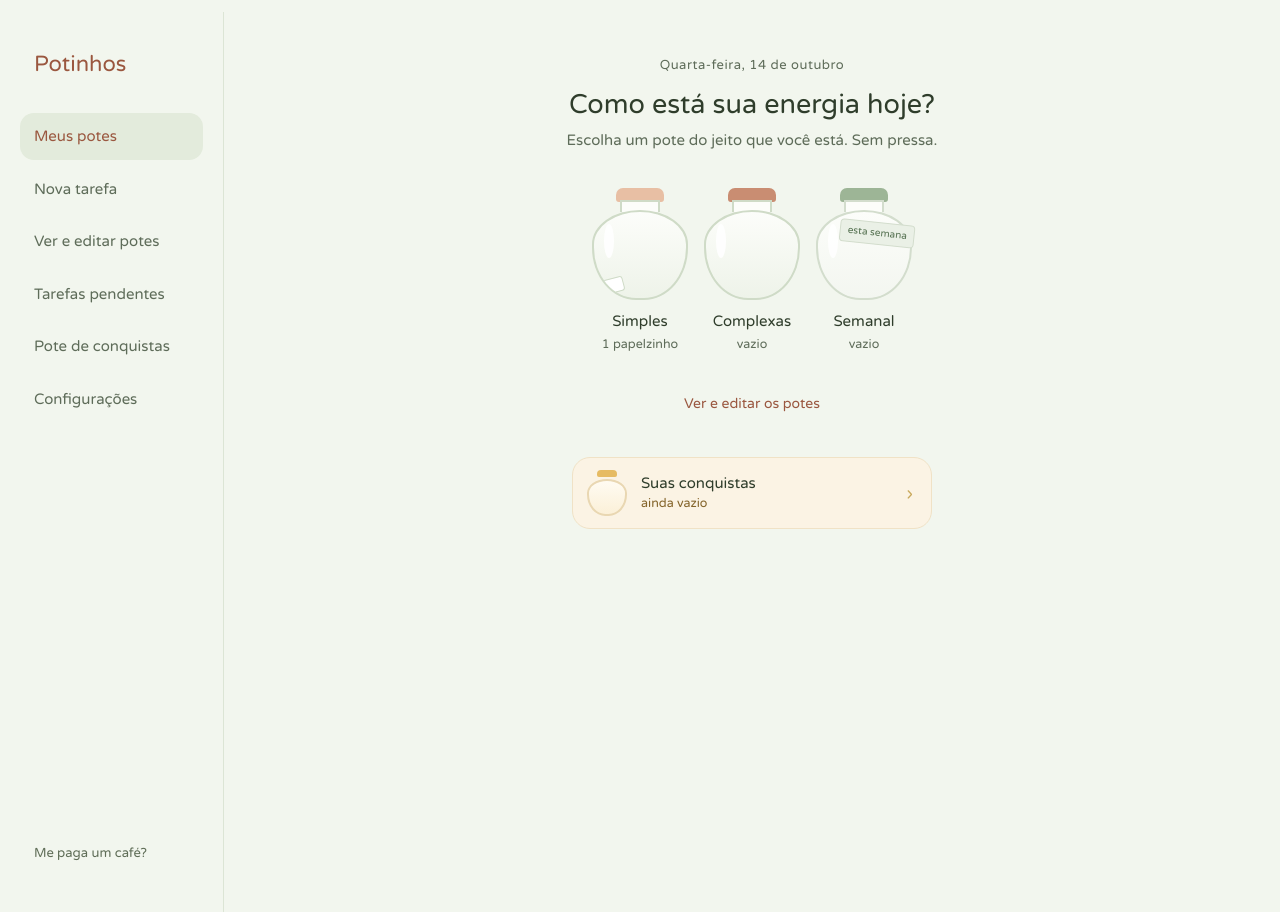
Return › goes home right away when the animation is skipped
Expected: the heading "Como está sua energia hoje?" is shown, [569, 88, 935, 120]
Click the button with aria-label "Pote ".
click(640, 271)  # box [592, 188, 688, 355]
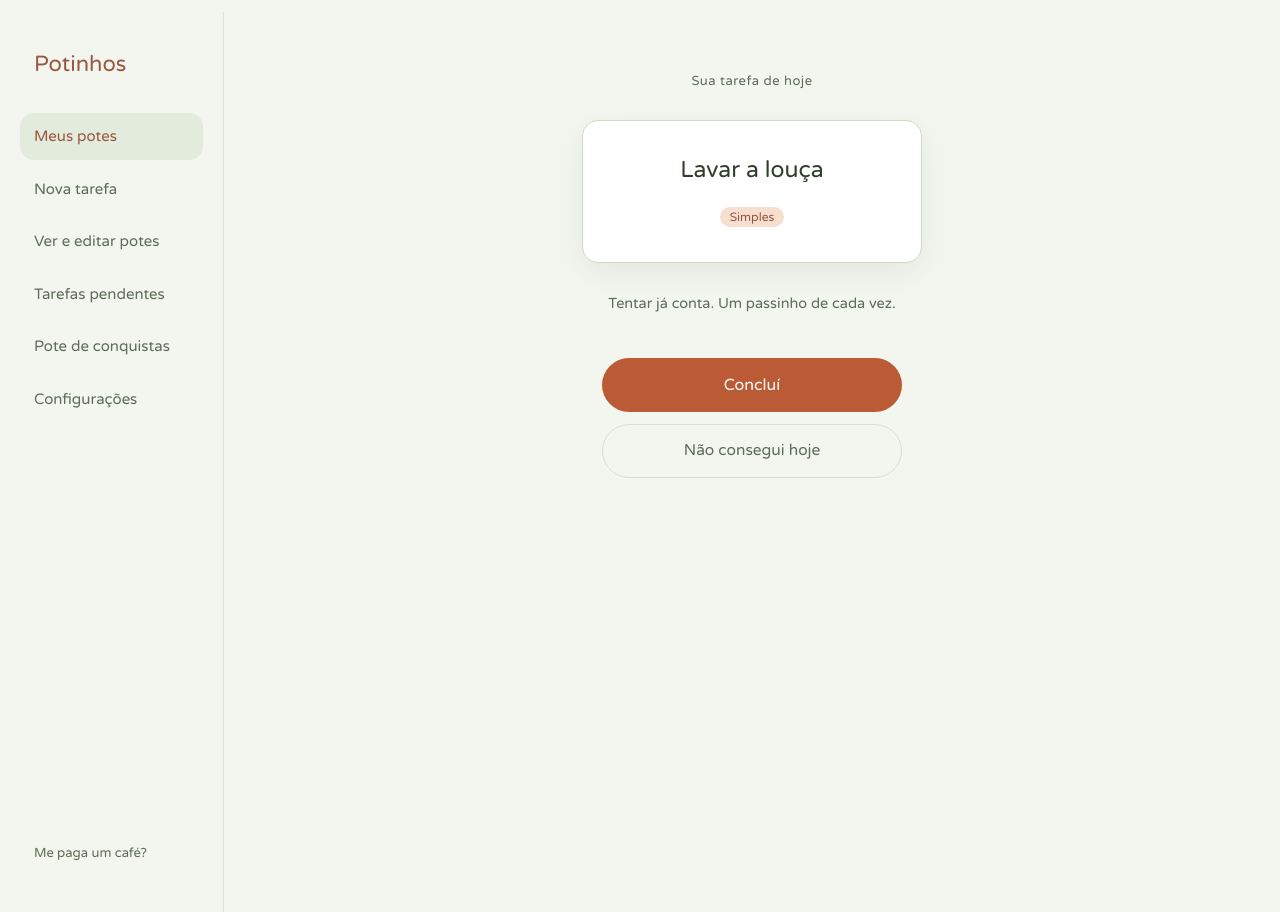
Expected: the heading "Sua tarefa de hoje" is shown, [691, 73, 812, 89]
Click the button "Não consegui hoje".
click(752, 451)  # box [602, 424, 902, 478]
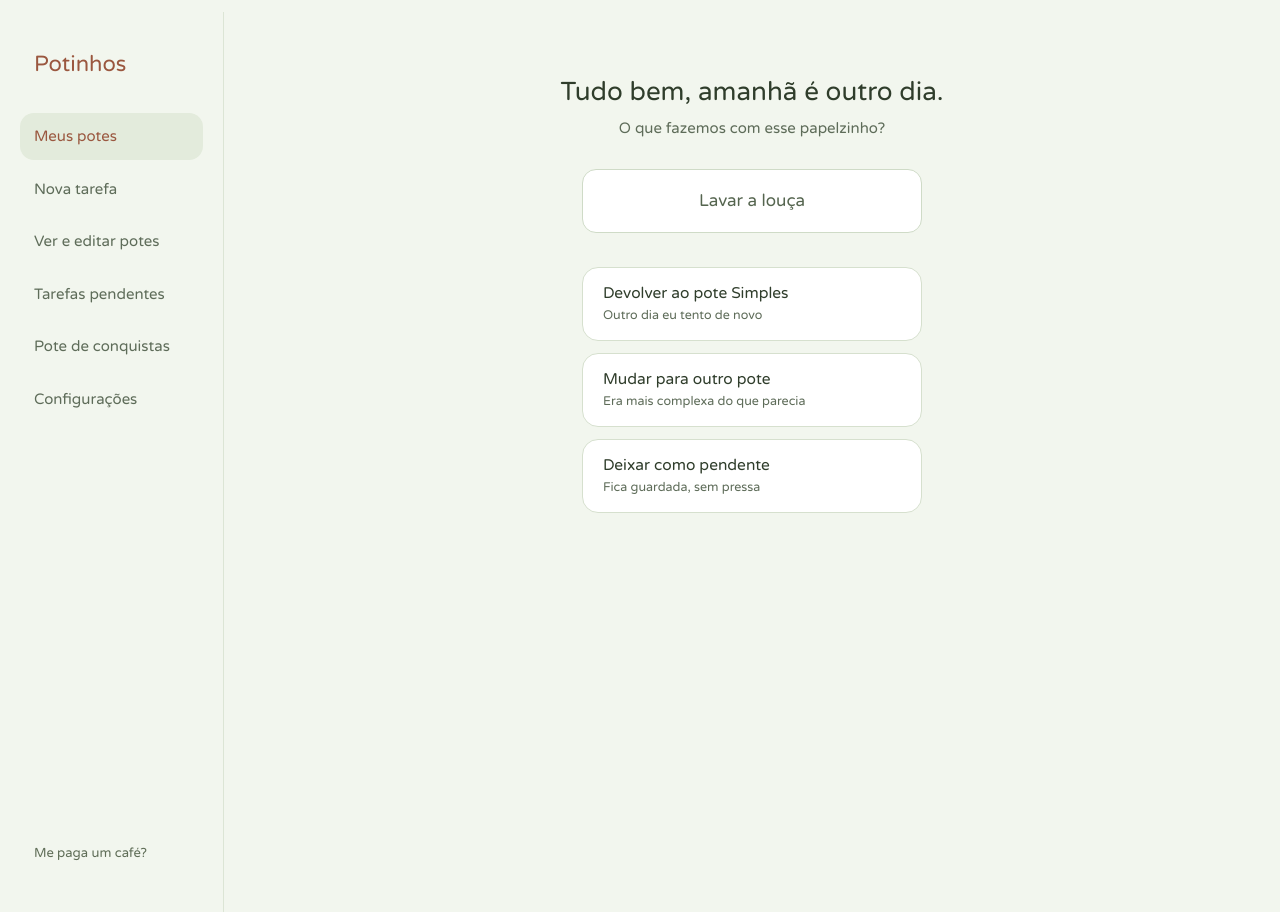
Click the button "Devolver ao pote Simples Outro dia eu tento de novo".
click(752, 304)  # box [582, 266, 922, 340]
Wait 500 ms
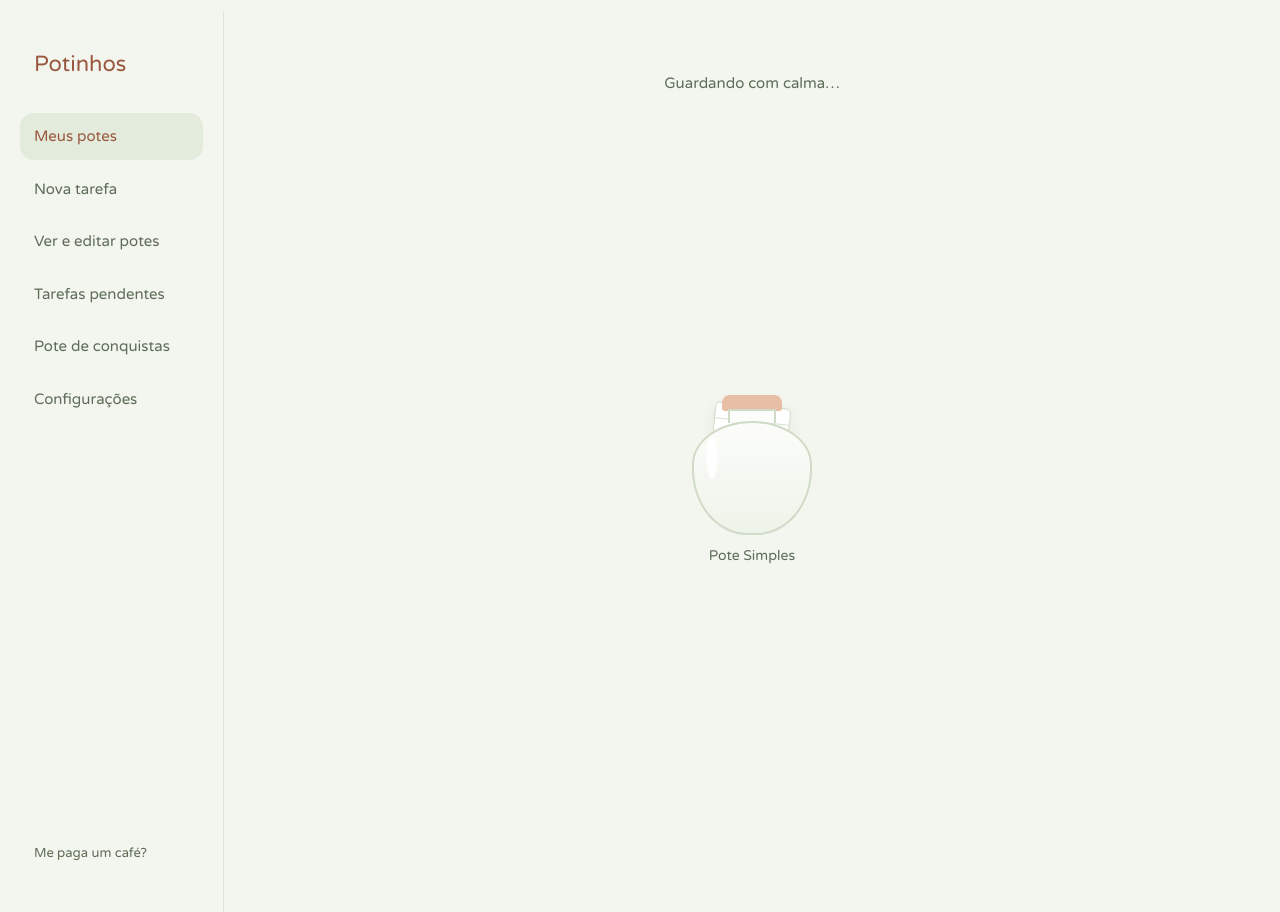
Expected: the text "Guardando com calma…" is shown, [664, 74, 840, 92]
Click the button named "Pular animação".
click(752, 462)  # box [372, 12, 1132, 911]
Wait 500 ms
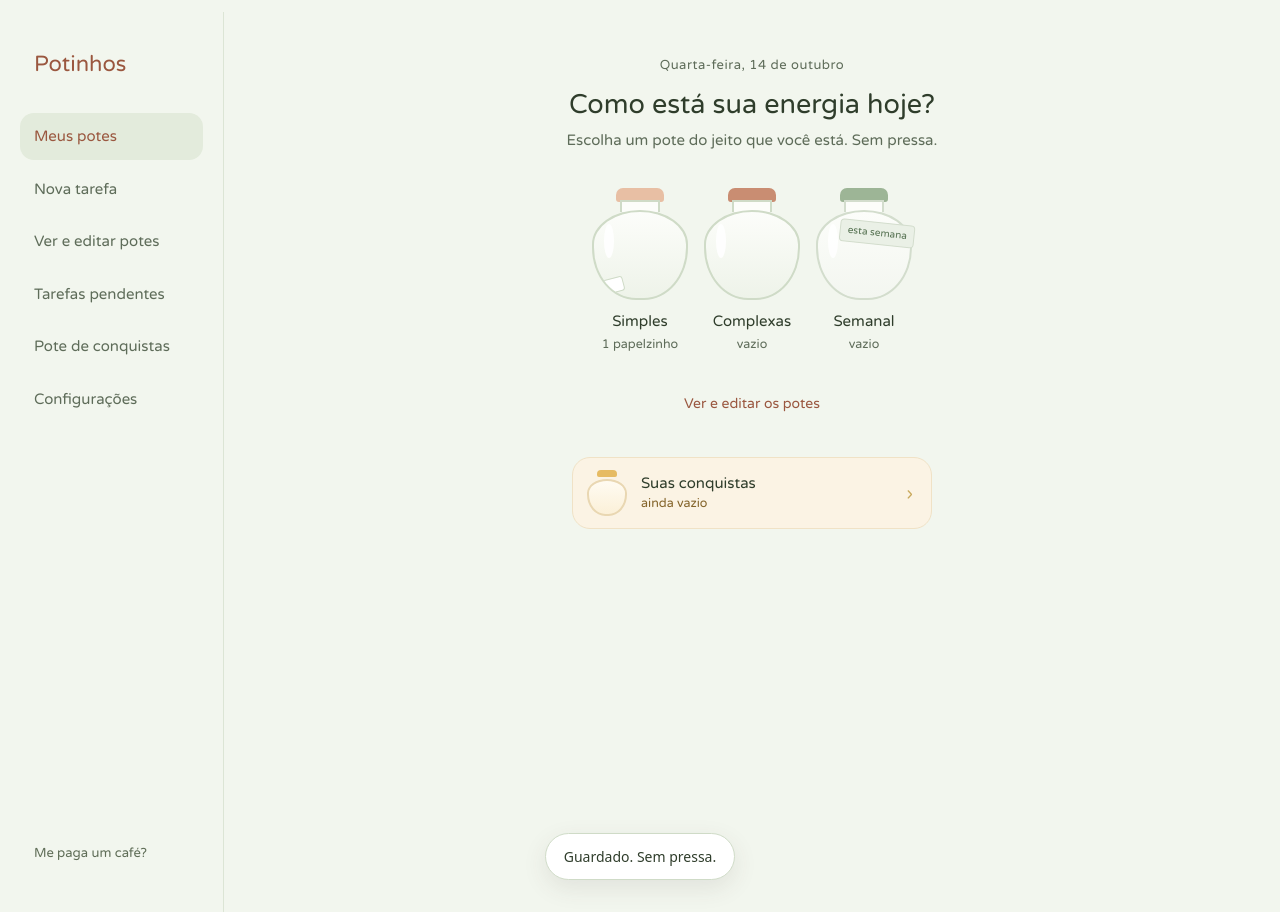
Expected: the text "Guardado. Sem pressa." is shown, [545, 833, 735, 880]
